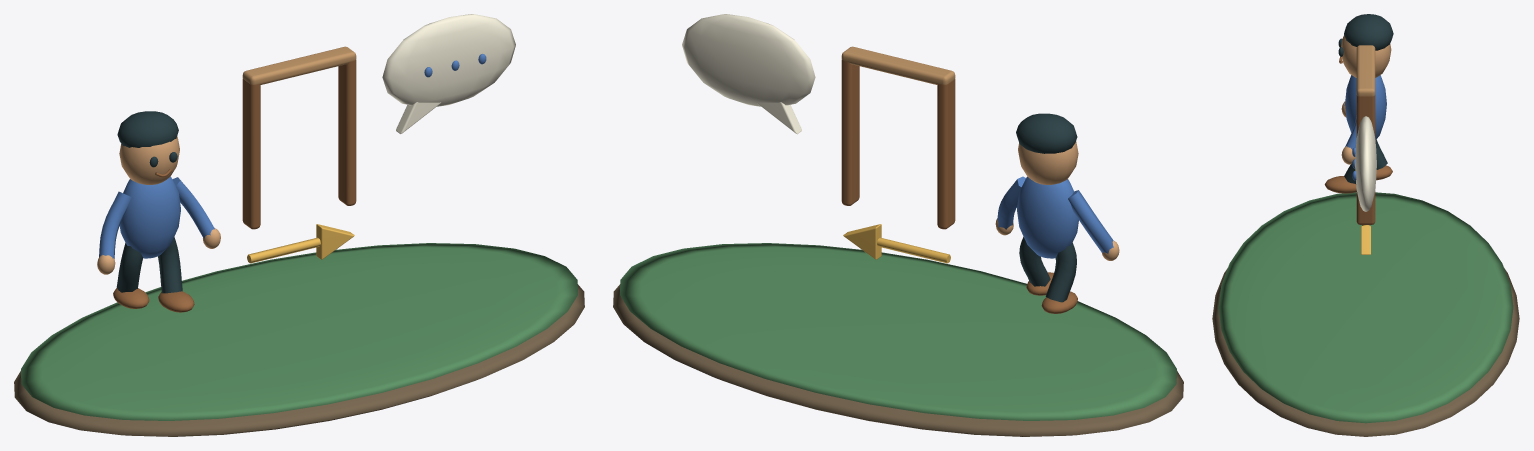
Rendered from complete-second-shared-language.glb.
The picture shows the model from 3 angles, left to right: view 1: azimuth 30°, elevation 25°; view 2: azimuth 150°, elevation 25°; view 3: azimuth 270°, elevation 25°; orthographic projection. The views are drawn at different scales.
Parts seen in each view (by area): view 1: complete-second-shared-language_surface_01, complete-second-shared-language_surface_00, complete-second-shared-language_surface_07, complete-second-shared-language_surface_04, complete-second-shared-language_surface_05, complete-second-shared-language_surface_03, complete-second-shared-language_surface_02, complete-second-shared-language_surface_06, complete-second-shared-language_surface_08; view 2: complete-second-shared-language_surface_01, complete-second-shared-language_surface_00, complete-second-shared-language_surface_07, complete-second-shared-language_surface_04, complete-second-shared-language_surface_05, complete-second-shared-language_surface_03, complete-second-shared-language_surface_02, complete-second-shared-language_surface_06, complete-second-shared-language_surface_08; view 3: complete-second-shared-language_surface_01, complete-second-shared-language_surface_00, complete-second-shared-language_surface_03, complete-second-shared-language_surface_07, complete-second-shared-language_surface_04, complete-second-shared-language_surface_05, complete-second-shared-language_surface_02, complete-second-shared-language_surface_06.
Part boxes in pixels (x1=…): complete-second-shared-language_surface_01: x1=21, y1=243, x2=577, y2=420; complete-second-shared-language_surface_00: x1=14, y1=284, x2=584, y2=436; complete-second-shared-language_surface_07: x1=382, y1=14, x2=515, y2=134; complete-second-shared-language_surface_04: x1=113, y1=59, x2=356, y2=312; complete-second-shared-language_surface_05: x1=99, y1=54, x2=486, y2=258; complete-second-shared-language_surface_03: x1=116, y1=111, x2=182, y2=293; complete-second-shared-language_surface_02: x1=97, y1=136, x2=220, y2=274; complete-second-shared-language_surface_06: x1=242, y1=46, x2=356, y2=84; complete-second-shared-language_surface_08: x1=247, y1=224, x2=354, y2=263; complete-second-shared-language_surface_01: x1=620, y1=243, x2=1176, y2=420; complete-second-shared-language_surface_00: x1=613, y1=284, x2=1183, y2=436; complete-second-shared-language_surface_07: x1=682, y1=14, x2=815, y2=134; complete-second-shared-language_surface_04: x1=841, y1=59, x2=1077, y2=313; complete-second-shared-language_surface_05: x1=997, y1=176, x2=1113, y2=258; complete-second-shared-language_surface_03: x1=1016, y1=113, x2=1077, y2=302; complete-second-shared-language_surface_02: x1=995, y1=141, x2=1119, y2=260; complete-second-shared-language_surface_06: x1=841, y1=46, x2=955, y2=84; complete-second-shared-language_surface_08: x1=843, y1=224, x2=950, y2=263; complete-second-shared-language_surface_01: x1=1218, y1=192, x2=1513, y2=423; complete-second-shared-language_surface_00: x1=1212, y1=268, x2=1519, y2=436; complete-second-shared-language_surface_03: x1=1338, y1=14, x2=1393, y2=183; complete-second-shared-language_surface_07: x1=1355, y1=116, x2=1376, y2=211; complete-second-shared-language_surface_04: x1=1324, y1=56, x2=1392, y2=224; complete-second-shared-language_surface_05: x1=1344, y1=75, x2=1386, y2=180; complete-second-shared-language_surface_02: x1=1341, y1=35, x2=1391, y2=164; complete-second-shared-language_surface_06: x1=1356, y1=45, x2=1375, y2=96.
Size of the model in its own units: 4.56 by 2.45 by 2.5.
